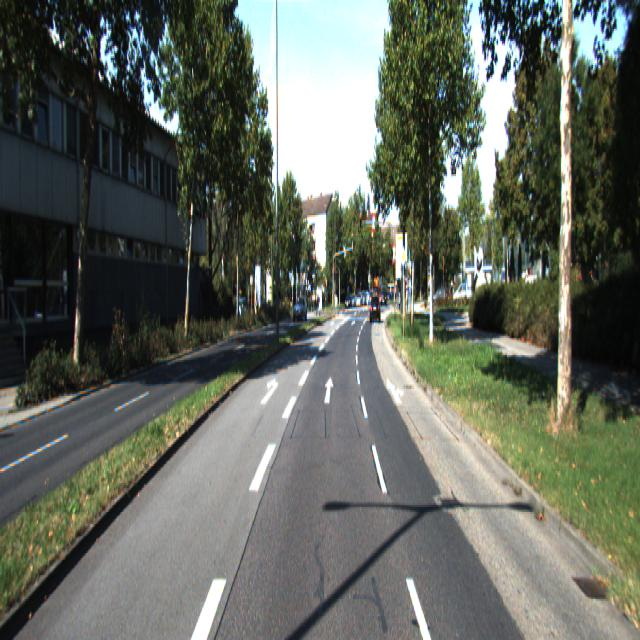Car: (293, 294, 307, 322), (370, 296, 381, 325)
